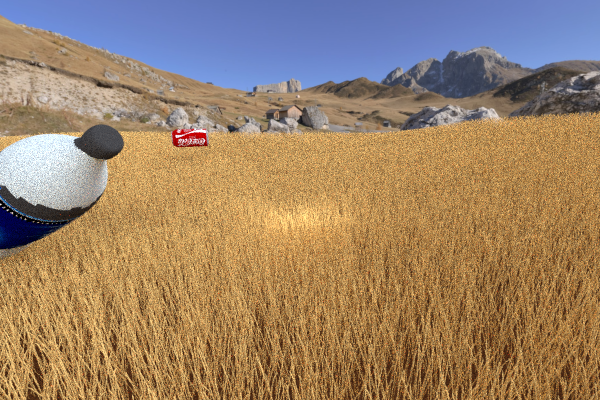bottle: (0, 124, 123, 267)
can: (0, 162, 64, 400), (171, 128, 208, 147)
